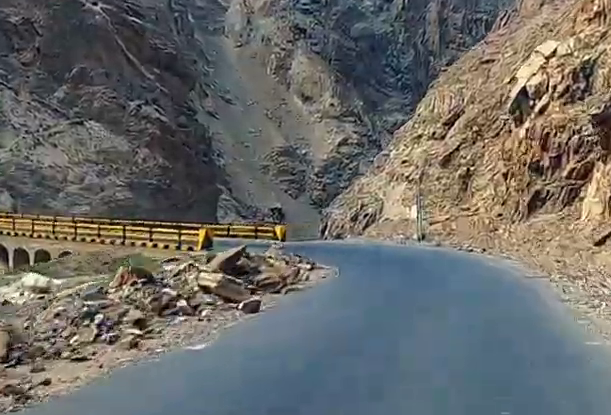right: (237, 217, 555, 364)
